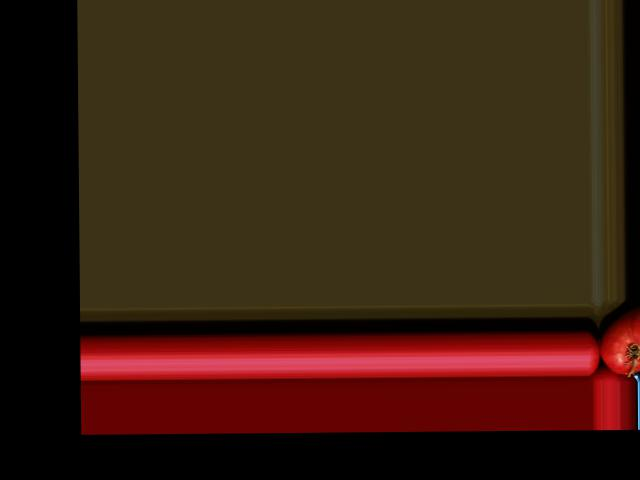tomato: (599, 304, 640, 374)
